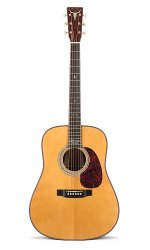guitar: (29, 6, 120, 242)
